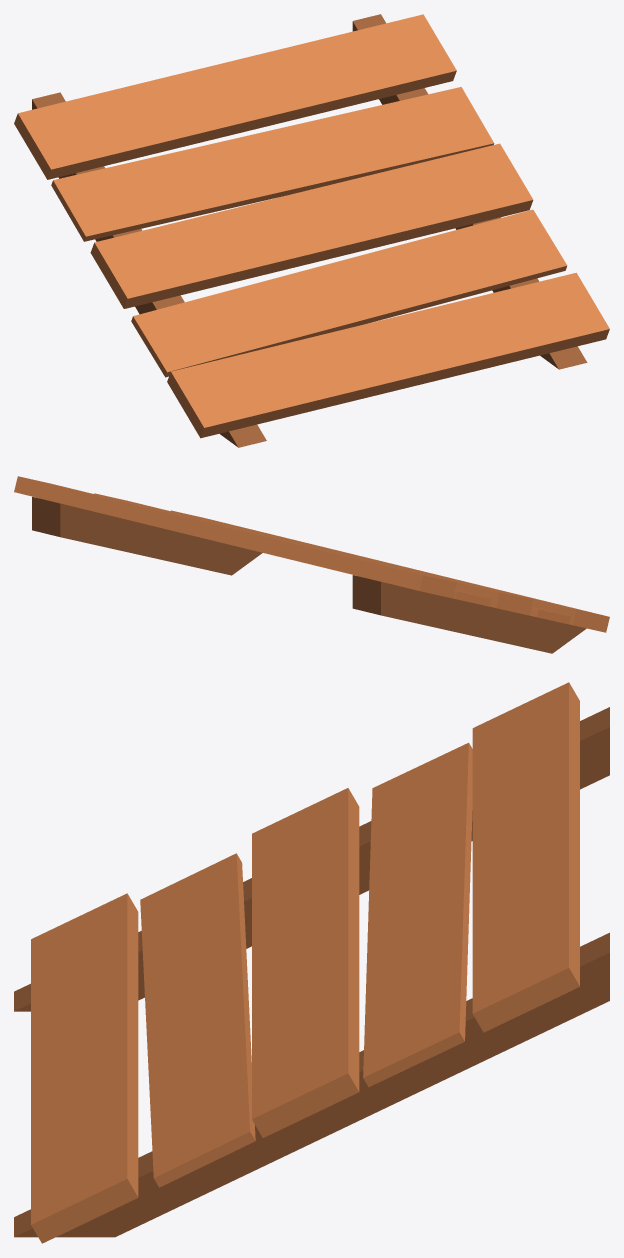
The model's file is bridgeRamp.fbx.
The picture shows the model from 3 angles, top to bottom: view 1: azimuth 30°, elevation 25°; view 2: azimuth 150°, elevation 25°; view 3: azimuth 270°, elevation 25°; orthographic projection. The views are drawn at different scales.
Parts seen in each view (by area): view 1: bridgeRamp; view 2: bridgeRamp; view 3: bridgeRamp.
Part boxes in pixels (left/top/right/bottom): bridgeRamp: left=14, top=14, right=609, bottom=447; bridgeRamp: left=14, top=476, right=609, bottom=653; bridgeRamp: left=14, top=682, right=609, bottom=1243.
Bounding box in the file's own units: 10 × 4.73 × 8.82.
